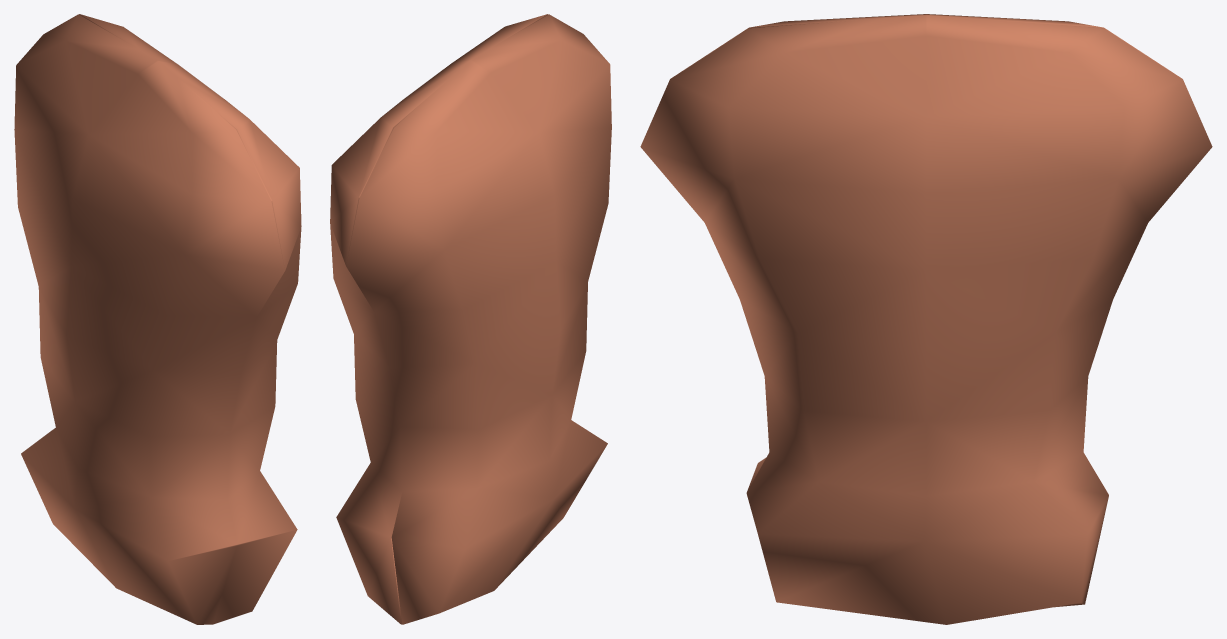
Rendered from body.dae.
The picture shows the model from 3 angles, left to right: view 1: azimuth 30°, elevation 25°; view 2: azimuth 150°, elevation 25°; view 3: azimuth 270°, elevation 25°; orthographic projection. The views are drawn at different scales.
Visible parts, largest first — view 1: Plane; view 2: Plane; view 3: Plane.
Boxes of the visible parts, x1,y1,x2,y2 form: Plane: (14,14,301,624); Plane: (330,14,611,624); Plane: (640,14,1212,624).
Size of the model in its own units: 0.6497 by 1.57 by 1.82.
